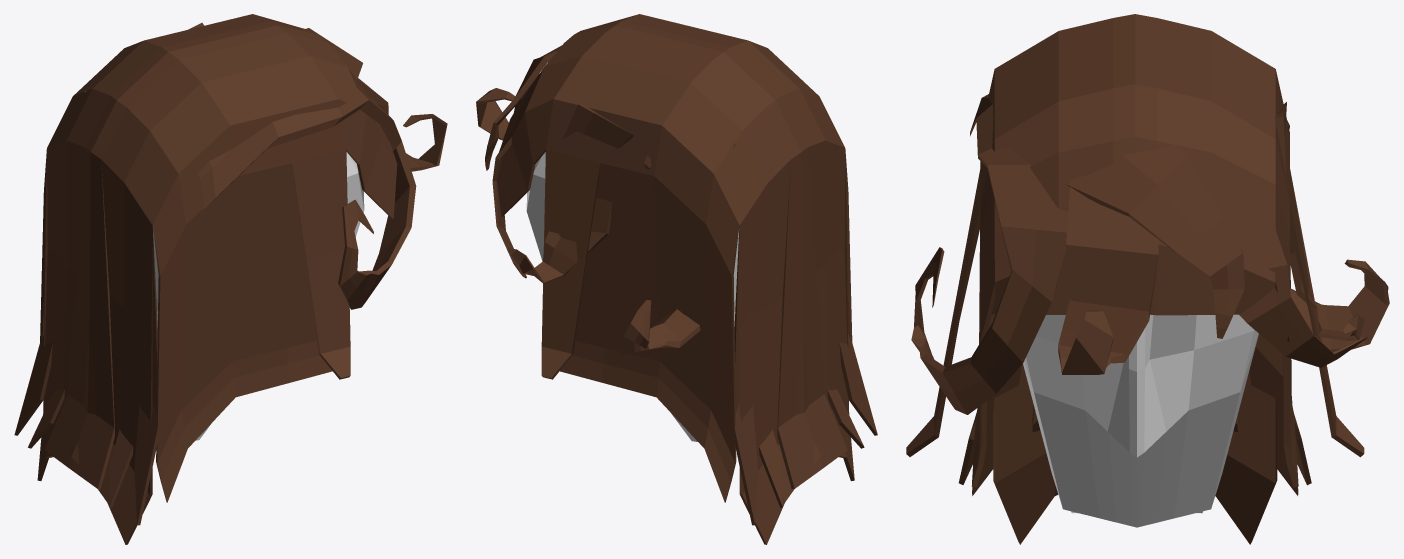
The model's file is Mev2.glb.
The picture shows the model from 3 angles, left to right: view 1: azimuth 30°, elevation 25°; view 2: azimuth 150°, elevation 25°; view 3: azimuth 270°, elevation 25°; orthographic projection. The views are drawn at different scales.
Parts seen in each view (by area): view 1: LargeHeadCover, Plane.007, Plane.004, Cube; view 2: LargeHeadCover, Plane.009, Plane.008, Cube, Plane.004, Plane.002, Plane.005; view 3: LargeHeadCover, Cube, Plane.007, Plane.004, Plane.002, Plane.005, Plane.008, Plane.009.
Boxes of the visible parts, bbox=[...] form: LargeHeadCover: bbox=[14, 14, 397, 544]; Plane.007: bbox=[197, 86, 416, 309]; Plane.004: bbox=[357, 78, 447, 171]; Cube: bbox=[153, 152, 364, 440]; LargeHeadCover: bbox=[497, 14, 877, 544]; Plane.009: bbox=[507, 103, 633, 283]; Plane.008: bbox=[621, 144, 735, 354]; Cube: bbox=[526, 152, 739, 441]; Plane.004: bbox=[476, 73, 539, 140]; Plane.002: bbox=[485, 45, 561, 170]; Plane.005: bbox=[492, 132, 526, 278]; LargeHeadCover: bbox=[906, 14, 1364, 544]; Cube: bbox=[1023, 314, 1258, 527]; Plane.007: bbox=[911, 94, 1068, 414]; Plane.004: bbox=[1058, 187, 1158, 374]; Plane.002: bbox=[1066, 144, 1244, 338]; Plane.005: bbox=[1239, 228, 1367, 367]; Plane.008: bbox=[1286, 118, 1389, 351]; Plane.009: bbox=[1275, 102, 1364, 340].
Size of the model in its own units: 2.07 by 2.44 by 1.83.
